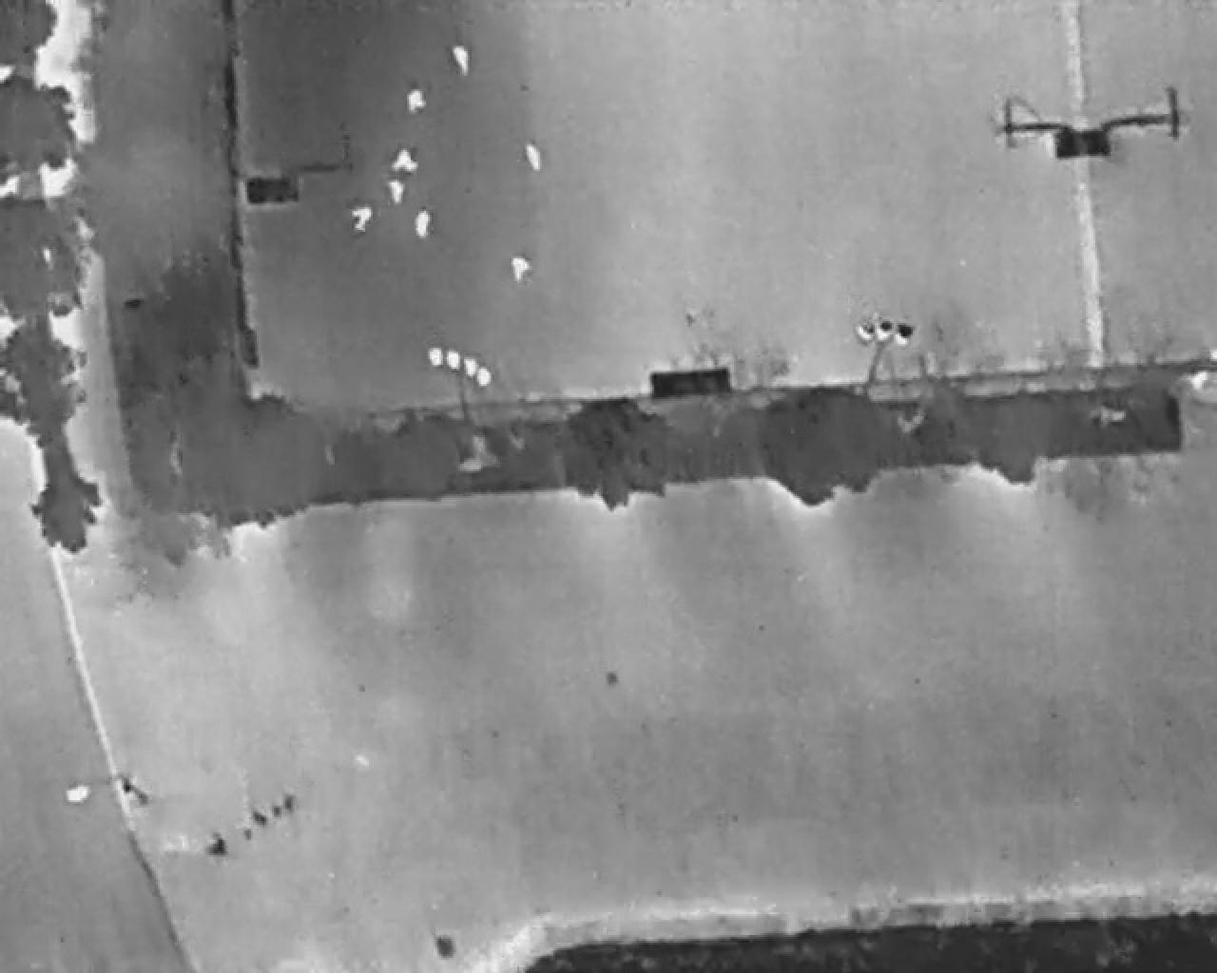person: (522, 142, 545, 174), (454, 43, 471, 79), (395, 149, 419, 174), (414, 208, 433, 238), (353, 208, 374, 233), (511, 256, 531, 282), (408, 88, 427, 115), (389, 180, 406, 206)
